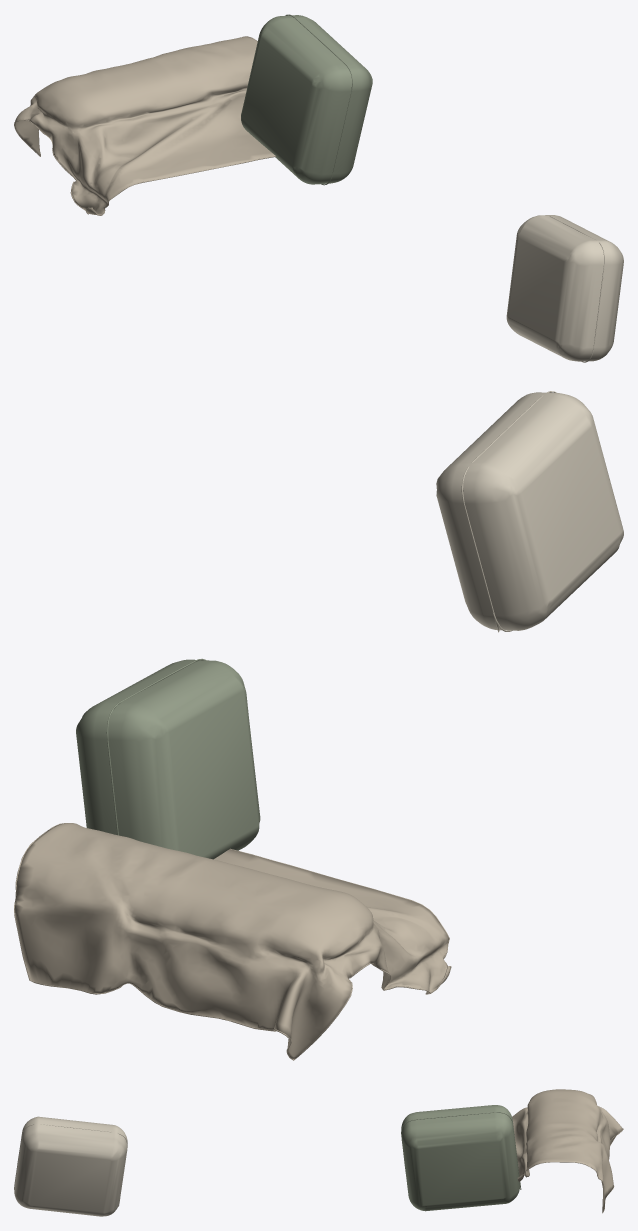
Rendered from sofa-linen-light.glb.
3 views of the same model, one above another, from view 1: azimuth 30°, elevation 25°; view 2: azimuth 150°, elevation 25°; view 3: azimuth 270°, elevation 25° (orthographic). The views are drawn at different scales.
Visible parts, largest first — view 1: Linen throw with gravity-settled folds, Mood linen sage pillow, Mood linen oat pillow, Fine stitched throw hem; view 2: Linen throw with gravity-settled folds, Mood linen oat pillow, Mood linen sage pillow, Fine stitched throw hem; view 3: Mood linen sage pillow, Mood linen oat pillow, Linen throw with gravity-settled folds, Fine stitched throw hem.
Boxes of the visible parts, box(x1,y1,x2,y2) form: Linen throw with gravity-settled folds: box(15, 36, 275, 214); Mood linen sage pillow: box(241, 14, 372, 185); Mood linen oat pillow: box(506, 215, 623, 362); Fine stitched throw hem: box(14, 36, 275, 215); Linen throw with gravity-settled folds: box(14, 823, 450, 1059); Mood linen oat pillow: box(436, 391, 623, 632); Mood linen sage pillow: box(76, 658, 260, 859); Fine stitched throw hem: box(14, 823, 451, 1060); Mood linen sage pillow: box(401, 1105, 521, 1211); Mood linen oat pillow: box(14, 1116, 127, 1216); Linen throw with gravity-settled folds: box(512, 1089, 622, 1211); Fine stitched throw hem: box(517, 1128, 623, 1213).
Size of the model in its own units: 0.7664 by 0.4277 by 2.07.
